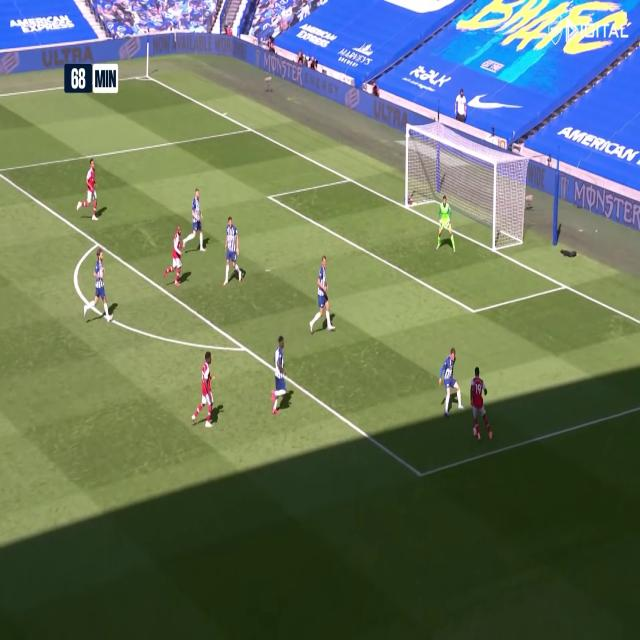ball: (469, 428, 481, 439)
team1: (468, 364, 500, 451), (193, 346, 220, 432), (163, 228, 193, 295), (74, 157, 102, 223)
team2: (83, 246, 118, 332), (308, 252, 340, 337), (180, 185, 213, 255), (437, 342, 464, 424), (266, 335, 293, 416), (220, 218, 248, 286)
